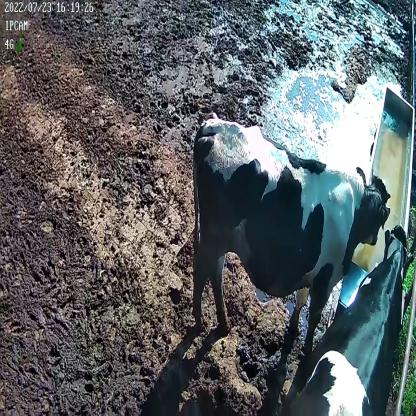cow: (192, 113, 392, 355), (285, 222, 416, 416)
